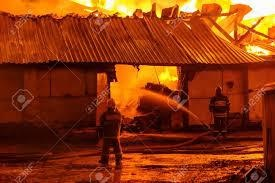fire: (176, 0, 275, 59)
